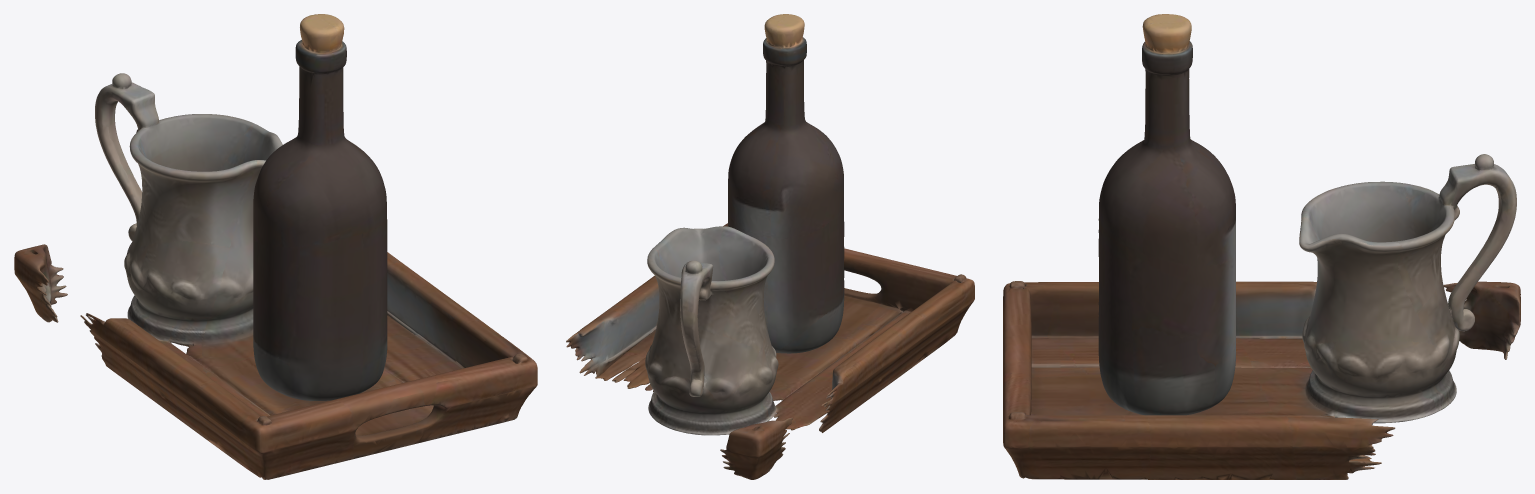
The model's file is tripo_pbr_model_157bad98-5388-4519-8d00-d2995374c6f6.glb.
3 views of the same model, side by side, from view 1: azimuth 30°, elevation 25°; view 2: azimuth 150°, elevation 25°; view 3: azimuth 270°, elevation 25° (orthographic). The views are drawn at different scales.
Parts seen in each view (by area): view 1: tripo_node_157bad98-5388-4519-8d00-d2995374c6f6; view 2: tripo_node_157bad98-5388-4519-8d00-d2995374c6f6; view 3: tripo_node_157bad98-5388-4519-8d00-d2995374c6f6.
Part boxes in pixels (bbox=[...]): tripo_node_157bad98-5388-4519-8d00-d2995374c6f6: bbox=[14, 14, 537, 479]; tripo_node_157bad98-5388-4519-8d00-d2995374c6f6: bbox=[566, 14, 974, 479]; tripo_node_157bad98-5388-4519-8d00-d2995374c6f6: bbox=[1003, 14, 1520, 479].
Size of the model in its own units: 0.6628 by 0.8385 by 0.9999.
1 material, 1 textured.
